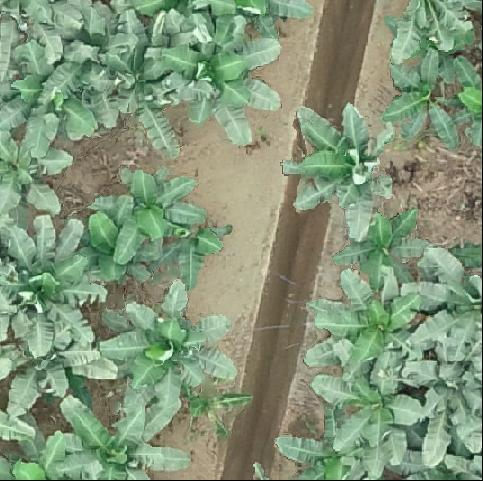Banana-plant: (108, 281, 241, 416), (156, 15, 279, 153), (282, 104, 397, 236), (0, 216, 106, 350), (2, 43, 123, 155), (305, 269, 420, 374), (47, 398, 191, 481), (406, 245, 483, 384), (312, 360, 424, 454), (96, 171, 211, 258), (418, 350, 483, 462), (0, 119, 72, 216), (328, 215, 427, 279), (393, 52, 457, 143)
